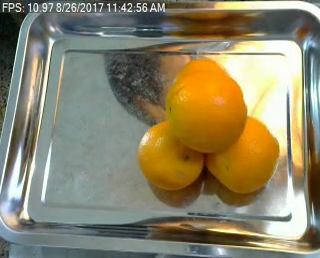Orange: (168, 72, 247, 152), (205, 115, 278, 194), (138, 120, 203, 188)
